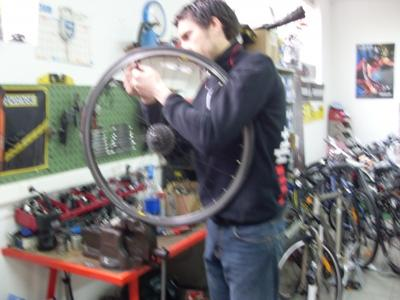person: (119, 1, 291, 300)
